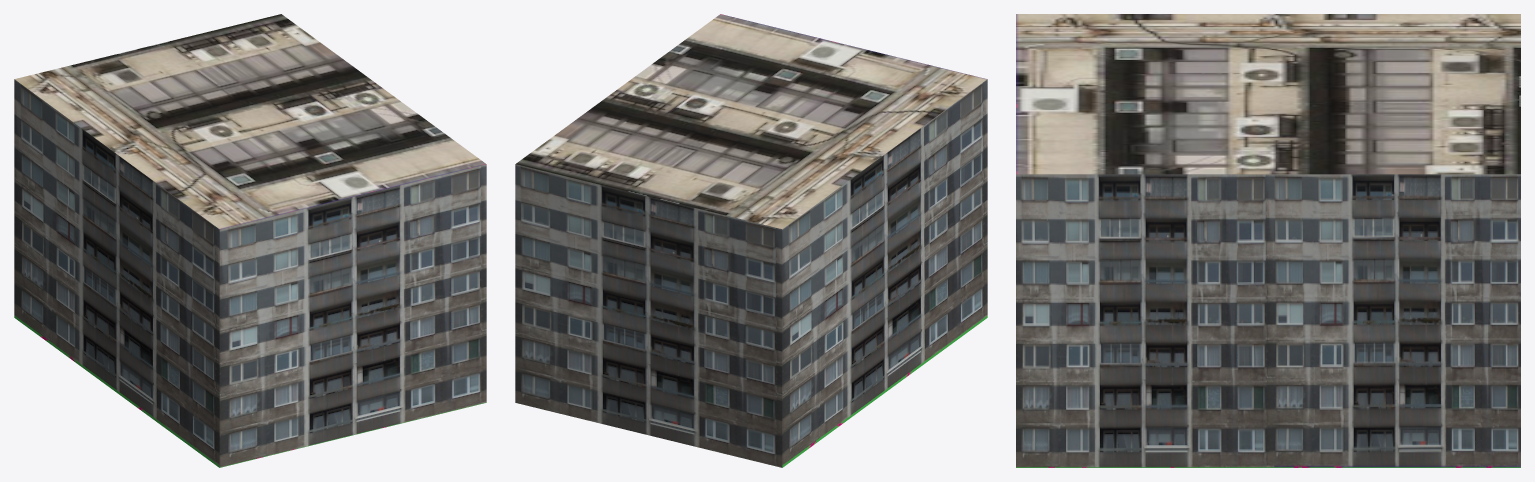
File: city1.glb
The picture shows the model from 3 angles, left to right: view 1: azimuth 30°, elevation 25°; view 2: azimuth 150°, elevation 25°; view 3: azimuth 270°, elevation 25°; orthographic projection. The views are drawn at different scales.
Visible parts, largest first — view 1: Cube; view 2: Cube; view 3: Cube.
Part boxes in pixels (x1,y1,x2,y2): Cube: (14, 14, 486, 467); Cube: (515, 14, 987, 467); Cube: (1016, 14, 1520, 467).
Size of what is drawn, in the model's own units: 37.31 by 31.86 by 49.63.
Materials: 1 (1 with a texture image).
